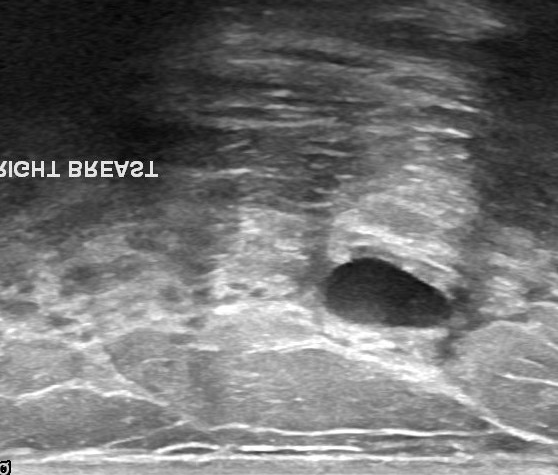Benign: (317, 251, 453, 331)
